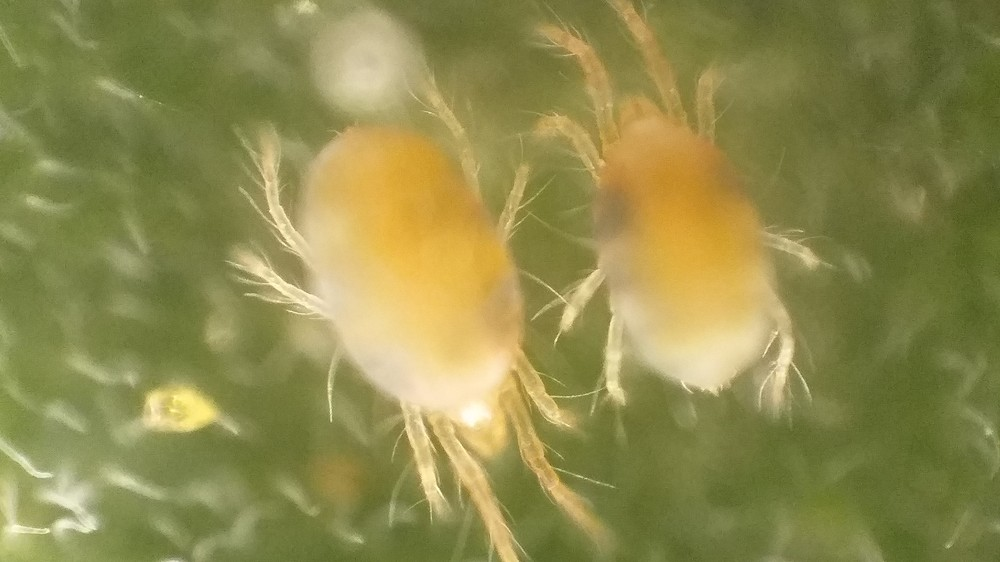Aracnido Rojo: (226, 78, 622, 554), (526, 10, 841, 432)
